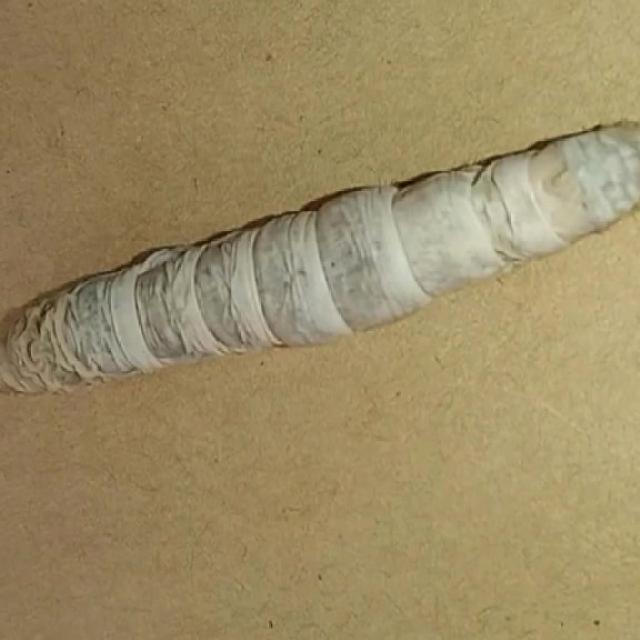Grasserie: (3, 109, 640, 420)
